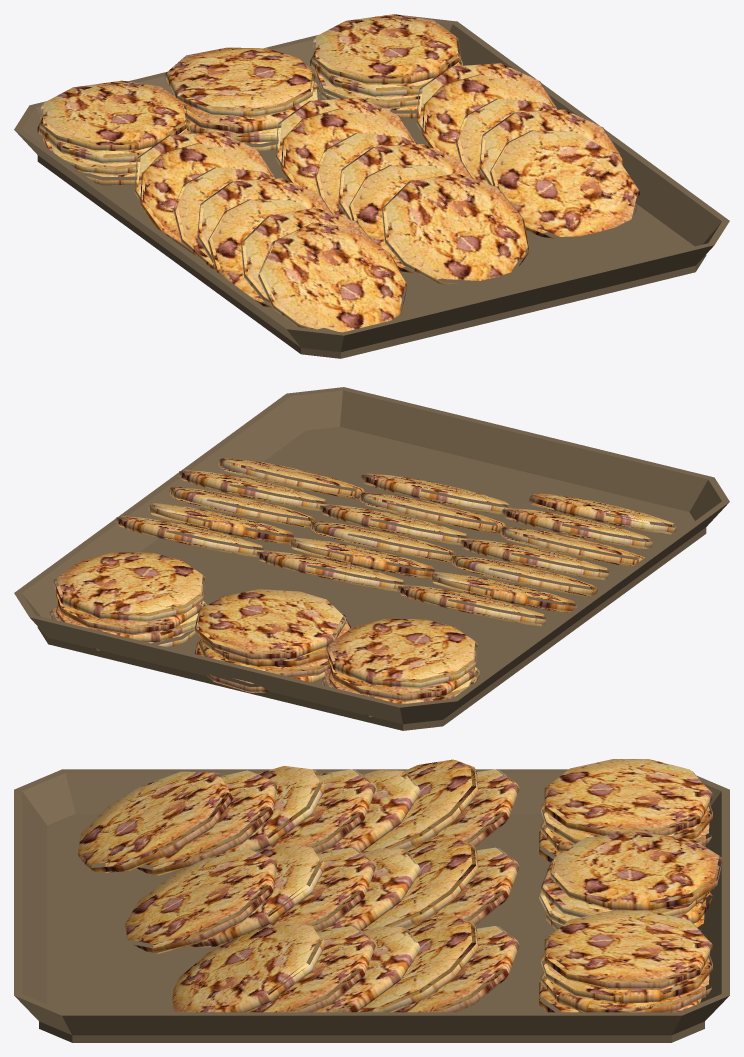
Rendered from cookies.glb.
The picture shows the model from 3 angles, top to bottom: view 1: azimuth 30°, elevation 25°; view 2: azimuth 150°, elevation 25°; view 3: azimuth 270°, elevation 25°; orthographic projection. The views are drawn at different scales.
Parts seen in each view (by area): view 1: cookies; view 2: cookies; view 3: cookies.
Boxes of the visible parts, x1=… form: cookies: x1=14, y1=14, x2=729, y2=358; cookies: x1=14, y1=387, x2=729, y2=730; cookies: x1=14, y1=759, x2=729, y2=1042.
Bounding box in the file's own units: 0.4445 × 0.0658 × 0.5461.
Materials: 2 (1 with a texture image).
